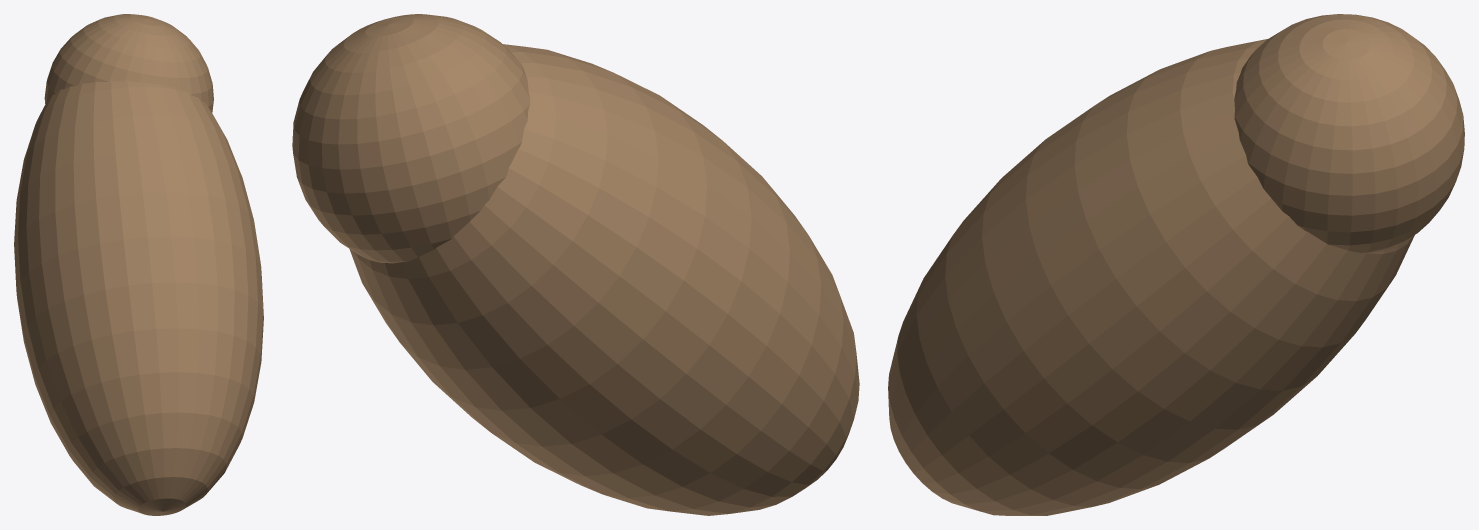
The model's file is AntebrazoIzq_Jugador.obj.
3 renders of one model, left to right at view 1: azimuth 30°, elevation 25°; view 2: azimuth 150°, elevation 25°; view 3: azimuth 270°, elevation 25°, orthographic. The views are drawn at different scales.
Parts seen in each view (by area): view 1: AntebrazoIzq_Jugador; view 2: AntebrazoIzq_Jugador; view 3: AntebrazoIzq_Jugador.
Boxes of the visible parts, x1,y1,x2,y2 form: AntebrazoIzq_Jugador: (14, 14, 263, 515); AntebrazoIzq_Jugador: (292, 14, 859, 515); AntebrazoIzq_Jugador: (888, 14, 1464, 515).
Size of the model in its own units: 1.11 by 1.63 by 1.57.
Materials: 1 (1 with a texture image).
